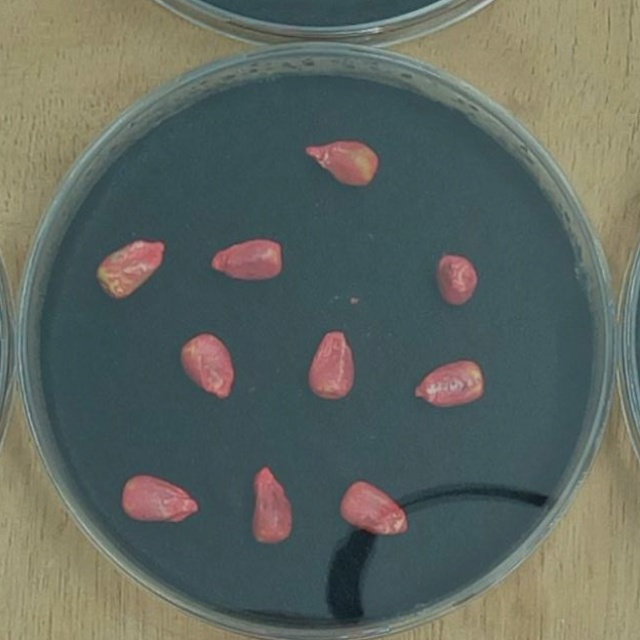Zea mays: (88, 234, 172, 308), (114, 467, 204, 530), (334, 476, 414, 544), (297, 133, 384, 195), (404, 352, 489, 414), (172, 328, 239, 406), (244, 457, 299, 550), (300, 326, 360, 407), (202, 233, 288, 288), (430, 248, 482, 314)
